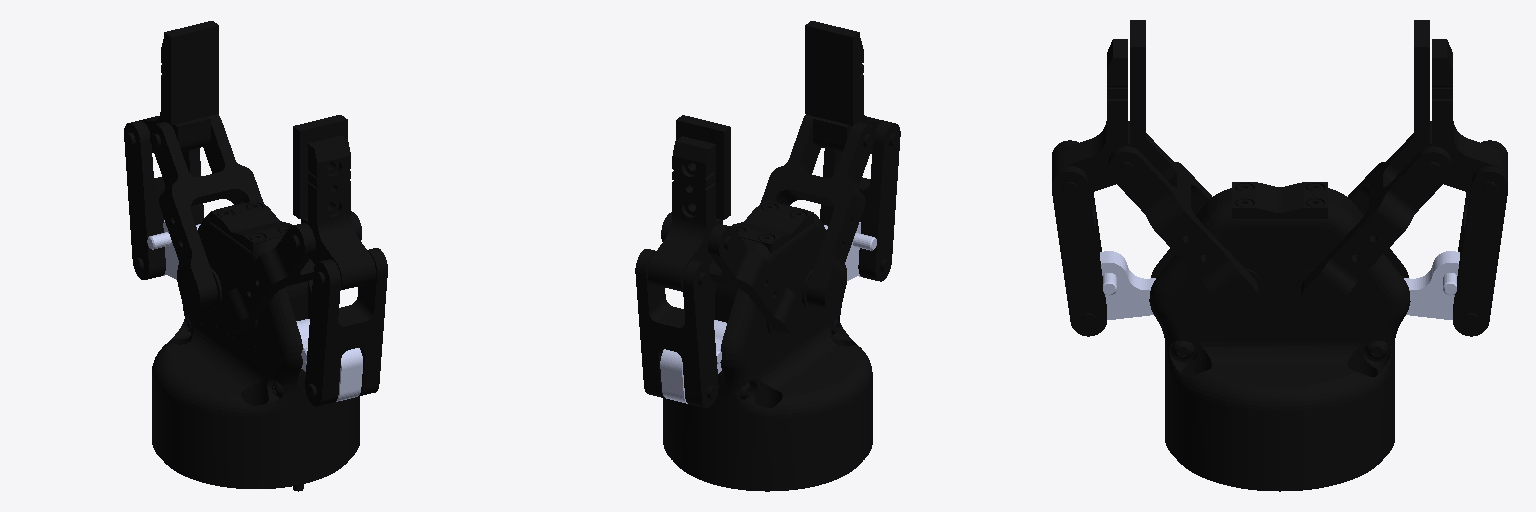
robot.urdf — robotiq_arg2f_85_model:
<?xml version="1.0" ?>
<!-- =================================================================================== -->
<!-- |    This document was autogenerated by xacro from robotiq_2f_85_macro.xacro      | -->
<!-- |    EDITING THIS FILE BY HAND IS NOT RECOMMENDED                                 | -->
<!-- =================================================================================== -->
<robot name="robotiq_arg2f_85_model">
    <link name="world">
      <inertial>
      <origin rpy="0 0 0" xyz="0 0 0"/>
      <mass value="0"/>
      <inertia ixx="0" ixy="0" ixz="0" iyy="0" iyz="0" izz="0"/>
    </inertial>
   </link>
     <link name="forward_link">
      <inertial>
      <origin rpy="0 0 0" xyz="0 0 0"/>
      <mass value="0"/>
      <inertia ixx="0" ixy="0" ixz="0" iyy="0" iyz="0" izz="0"/>
    </inertial>
   </link>
  <link name="robotiq_arg2f_85_base_link">
    <inertial>
      <origin rpy="0 0 0" xyz="8.625E-08 -4.6583E-06 0.03145"/>
      <mass value="0.22652"/>
      <inertia ixx="0.00020005" ixy="-4.2442E-10" ixz="-2.9069E-10" iyy="0.00017832" iyz="-3.4402E-08" izz="0.00013478"/>
    </inertial>
    <visual>
      <origin rpy="0 0 0" xyz="0 0 0"/>
      <geometry>
        <mesh filename="visual/robotiq_arg2f_85_base_link.obj"/>
      </geometry>
      <material name="">
        <color rgba="0.1 0.1 0.1 1"/>
      </material>
    </visual>
    <collision>
      <origin rpy="0 0 0" xyz="0 0 0"/>
      <geometry>
        <mesh filename="collision/robotiq_arg2f_85_base_link_vhacd.obj"/>
      </geometry>
    </collision>
  </link>
  <gazebo reference="robotiq_arg2f_85_base_link">
    <material>Gazebo/Black</material>
  </gazebo>
  <link name="left_outer_knuckle">
    <inertial>
      <origin rpy="0 0 0" xyz="-0.000200000000003065 0.0199435877845359 0.0292245259211331"/>
      <mass value="0.00853198276973456"/>
      <inertia ixx="2.89328108496468E-06" ixy="-1.57935047237397E-19" ixz="-1.93980378593255E-19" iyy="1.86719750325683E-06" iyz="-1.21858577871576E-06" izz="1.21905238907251E-06"/>
    </inertial>
    <visual>
      <origin rpy="0 0 0" xyz="0 0 0"/>
      <geometry>
        <mesh filename="visual/robotiq_arg2f_85_outer_knuckle.obj" scale="1 1 1"/>
      </geometry>
      <material name="">
        <color rgba="0.792156862745098 0.819607843137255 0.933333333333333 1"/>
      </material>
    </visual>
    <collision>
      <origin rpy="0 0 0" xyz="0 0 0"/>
      <geometry>
        <mesh filename="collision/robotiq_arg2f_85_outer_knuckle_vhacd.obj" scale="1 1 1"/>
      </geometry>
    </collision>
  </link>
  <link name="left_outer_finger">
    <inertial>
      <origin rpy="0 0 0" xyz="0.00030115855001899 0.0373907951953854 -0.0208027427000385"/>
      <mass value="0.022614240507152"/>
      <inertia ixx="1.52518312458174E-05" ixy="9.76583423954399E-10" ixz="-5.43838577022588E-10" iyy="6.17694243867776E-06" iyz="6.78636130740228E-06" izz="1.16494917907219E-05"/>
    </inertial>
    <visual>
      <origin rpy="0 0 0" xyz="0 0 0"/>
      <geometry>
        <mesh filename="visual/robotiq_arg2f_85_outer_finger.obj" scale="1 1 1"/>
      </geometry>
      <material name="">
        <color rgba="0.1 0.1 0.1 1"/>
      </material>
    </visual>
    <collision>
      <origin rpy="0 0 0" xyz="0 0 0"/>
      <geometry>
        <mesh filename="collision/robotiq_arg2f_85_outer_finger_vhacd.obj" scale="1 1 1"/>
      </geometry>
    </collision>
  </link>
  <link name="left_inner_finger">
    <inertial>
      <origin rpy="0 0 0" xyz="0.000299999999999317 0.0160078233491243 -0.0136945669206257"/>
      <mass value="0.0104003125914103"/>
      <inertia ixx="2.71909453810972E-06" ixy="1.35402465472579E-21" ixz="-7.1817349065269E-22" iyy="7.69100314106116E-07" iyz="6.74715432769696E-07" izz="2.30315190420171E-06"/>
    </inertial>
    <visual>
      <origin rpy="0 0 0" xyz="0 0 0"/>
      <geometry>
        <mesh filename="visual/robotiq_arg2f_85_inner_finger.obj" scale="1 1 1"/>
      </geometry>
      <material name="">
        <color rgba="0.1 0.1 0.1 1"/>
      </material>
    </visual>
    <collision>
      <origin rpy="0 0 0" xyz="0 0 0"/>
      <geometry>
        <mesh filename="collision/robotiq_arg2f_85_inner_finger_vhacd.obj" scale="1 1 1"/>
      </geometry>
    </collision>
  </link>
  <link name="left_inner_knuckle">
    <inertial>
      <origin rpy="0 0 0" xyz="0.000123011831763771 0.0507850843201817 0.00103968640075166"/>
      <mass value="0.0271177346495152"/>
      <inertia ixx="2.61910379223783E-05" ixy="-2.43616858946494E-07" ixz="-6.37789906117123E-09" iyy="2.8270243746167E-06" iyz="-5.37200748039765E-07" izz="2.83695868220296E-05"/>
    </inertial>
    <visual>
      <origin rpy="0 0 0" xyz="0 0 0"/>
      <geometry>
        <mesh filename="visual/robotiq_arg2f_85_inner_knuckle.obj" scale="1 1 1"/>
      </geometry>
      <material name="">
        <color rgba="0.1 0.1 0.1 1"/>
      </material>
    </visual>
    <collision>
      <origin rpy="0 0 0" xyz="0 0 0"/>
      <geometry>
        <mesh filename="collision/robotiq_arg2f_85_inner_knuckle_vhacd.obj" scale="1 1 1"/>
      </geometry>
    </collision>
  </link>
  <link name="right_outer_knuckle">
    <inertial>
      <origin rpy="0 0 0" xyz="-0.000200000000003065 0.0199435877845359 0.0292245259211331"/>
      <mass value="0.00853198276973456"/>
      <inertia ixx="2.89328108496468E-06" ixy="-1.57935047237397E-19" ixz="-1.93980378593255E-19" iyy="1.86719750325683E-06" iyz="-1.21858577871576E-06" izz="1.21905238907251E-06"/>
    </inertial>
    <visual>
      <origin rpy="0 0 0" xyz="0 0 0"/>
      <geometry>
        <mesh filename="visual/robotiq_arg2f_85_outer_knuckle.obj" scale="1 1 1"/>
      </geometry>
      <material name="">
        <color rgba="0.792156862745098 0.819607843137255 0.933333333333333 1"/>
      </material>
    </visual>
    <collision>
      <origin rpy="0 0 0" xyz="0 0 0"/>
      <geometry>
        <mesh filename="collision/robotiq_arg2f_85_outer_knuckle_vhacd.obj" scale="1 1 1"/>
      </geometry>
    </collision>
  </link>
  <link name="right_outer_finger">
    <inertial>
      <origin rpy="0 0 0" xyz="0.00030115855001899 0.0373907951953854 -0.0208027427000385"/>
      <mass value="0.022614240507152"/>
      <inertia ixx="1.52518312458174E-05" ixy="9.76583423954399E-10" ixz="-5.43838577022588E-10" iyy="6.17694243867776E-06" iyz="6.78636130740228E-06" izz="1.16494917907219E-05"/>
    </inertial>
    <visual>
      <origin rpy="0 0 0" xyz="0 0 0"/>
      <geometry>
        <mesh filename="visual/robotiq_arg2f_85_outer_finger.obj" scale="1 1 1"/>
      </geometry>
      <material name="">
        <color rgba="0.1 0.1 0.1 1"/>
      </material>
    </visual>
    <collision>
      <origin rpy="0 0 0" xyz="0 0 0"/>
      <geometry>
        <mesh filename="collision/robotiq_arg2f_85_outer_finger_vhacd.obj" scale="1 1 1"/>
      </geometry>
    </collision>
  </link>
  <link name="right_inner_finger">
    <inertial>
      <origin rpy="0 0 0" xyz="0.000299999999999317 0.0160078233491243 -0.0136945669206257"/>
      <mass value="0.0104003125914103"/>
      <inertia ixx="2.71909453810972E-06" ixy="1.35402465472579E-21" ixz="-7.1817349065269E-22" iyy="7.69100314106116E-07" iyz="6.74715432769696E-07" izz="2.30315190420171E-06"/>
    </inertial>
    <visual>
      <origin rpy="0 0 0" xyz="0 0 0"/>
      <geometry>
        <mesh filename="visual/robotiq_arg2f_85_inner_finger.obj" scale="1 1 1"/>
      </geometry>
      <material name="">
        <color rgba="0.1 0.1 0.1 1"/>
      </material>
    </visual>
    <collision>
      <origin rpy="0 0 0" xyz="0 0 0"/>
      <geometry>
        <mesh filename="collision/robotiq_arg2f_85_inner_finger_vhacd.obj" scale="1 1 1"/>
      </geometry>
    </collision>
  </link>
  <link name="right_inner_knuckle">
    <inertial>
      <origin rpy="0 0 0" xyz="0.000123011831763771 0.0507850843201817 0.00103968640075166"/>
      <mass value="0.0271177346495152"/>
      <inertia ixx="2.61910379223783E-05" ixy="-2.43616858946494E-07" ixz="-6.37789906117123E-09" iyy="2.8270243746167E-06" iyz="-5.37200748039765E-07" izz="2.83695868220296E-05"/>
    </inertial>
    <visual>
      <origin rpy="0 0 0" xyz="0 0 0"/>
      <geometry>
        <mesh filename="visual/robotiq_arg2f_85_inner_knuckle.obj" scale="1 1 1"/>
      </geometry>
      <material name="">
        <color rgba="0.1 0.1 0.1 1"/>
      </material>
    </visual>
    <collision>
      <origin rpy="0 0 0" xyz="0 0 0"/>
      <geometry>
        <mesh filename="collision/robotiq_arg2f_85_inner_knuckle_vhacd.obj" scale="1 1 1"/>
      </geometry>
    </collision>
  </link>
  <joint name="finger_joint" type="revolute">
    <origin rpy="0 0 3.141592653589793" xyz="0 -0.0306011 0.054904"/>
    <parent link="robotiq_arg2f_85_base_link"/>
    <child link="left_outer_knuckle"/>
    <axis xyz="1 0 0"/>
    <limit effort="1000" lower="0" upper="0.8" velocity="2.0"/>
  </joint>
  <joint name="left_outer_finger_joint" type="fixed">
    <origin rpy="0 0 0" xyz="0 0.0315 -0.0041"/>
    <parent link="left_outer_knuckle"/>
    <child link="left_outer_finger"/>
    <axis xyz="1 0 0"/>
  </joint>
  <joint name="left_inner_knuckle_joint" type="revolute">
    <!-- <origin xyz="0 ${reflect * -0.0127} 0.06142" rpy="${pi / 2 + .725} 0 ${(reflect - 1) * pi / 2}" /> -->
    <origin rpy="0 0 3.141592653589793" xyz="0 -0.0127 0.06142"/>
    <parent link="robotiq_arg2f_85_base_link"/>
    <child link="left_inner_knuckle"/>
    <axis xyz="1 0 0"/>
    <limit effort="1000" lower="0" upper="0.8757" velocity="2.0"/>
    <mimic joint="finger_joint" multiplier="1" offset="0"/>
  </joint>
  <joint name="left_inner_finger_joint" type="revolute">
    <origin rpy="0 0 0" xyz="0 0.0061 0.0471"/>
    <parent link="left_outer_finger"/>
    <child link="left_inner_finger"/>
    <axis xyz="1 0 0"/>
    <limit effort="1000" lower="-0.8757" upper="0.8757" velocity="2.0"/>
    <mimic joint="finger_joint" multiplier="-1" offset="0"/>
  </joint>
  <joint name="right_outer_knuckle_joint" type="revolute">
    <origin rpy="0 0 0" xyz="0 0.0306011 0.054904"/>
    <parent link="robotiq_arg2f_85_base_link"/>
    <child link="right_outer_knuckle"/>
    <axis xyz="1 0 0"/>
    <limit effort="1000" lower="0" upper="0.81" velocity="2.0"/>
    <mimic joint="finger_joint" multiplier="1" offset="0"/>
  </joint>
  <joint name="right_outer_finger_joint" type="fixed">
    <origin rpy="0 0 0" xyz="0 0.0315 -0.0041"/>
    <parent link="right_outer_knuckle"/>
    <child link="right_outer_finger"/>
    <axis xyz="1 0 0"/>
  </joint>
  <joint name="right_inner_knuckle_joint" type="revolute">
    <!-- <origin xyz="0 ${reflect * -0.0127} 0.06142" rpy="${pi / 2 + .725} 0 ${(reflect - 1) * pi / 2}" /> -->
    <origin rpy="0 0 0.0" xyz="0 0.0127 0.06142"/>
    <parent link="robotiq_arg2f_85_base_link"/>
    <child link="right_inner_knuckle"/>
    <axis xyz="1 0 0"/>
    <limit effort="1000" lower="0" upper="0.8757" velocity="2.0"/>
    <mimic joint="finger_joint" multiplier="1" offset="0"/>
  </joint>
  <joint name="right_inner_finger_joint" type="revolute">
    <origin rpy="0 0 0" xyz="0 0.0061 0.0471"/>
    <parent link="right_outer_finger"/>
    <child link="right_inner_finger"/>
    <axis xyz="1 0 0"/>
    <limit effort="1000" lower="-0.8757" upper="0.8757" velocity="2.0"/>
    <mimic joint="finger_joint" multiplier="-1" offset="0"/>
  </joint>
  <joint name="rotation_joint" type="revolute">
    <origin rpy="0 0 0" xyz="0 0 0"/>
    <parent link="world"/>
    <child link="forward_link"/>
    <axis xyz="0 0 1"/>
    <limit effort="1000" lower="-3.14" upper="3.14"/>
  </joint>
  <joint name="forward_joint" type="prismatic">
    <origin rpy="0 0 0" xyz="0 0 0"/>
    <parent link="forward_link"/>
    <child link="robotiq_arg2f_85_base_link"/>
    <axis xyz="0 0 1"/>
    <limit effort="1000" lower="-10" upper="10"/>
  </joint>

    <link name="left_inner_finger_pad">
      <inertial>
      <origin rpy="0 0 0" xyz="0 0 0"/>
      <mass value="0"/>
      <inertia ixx="0" ixy="0" ixz="0" iyy="0" iyz="0" izz="0"/>
    </inertial>
    <visual>
      <origin rpy="0 0 0" xyz="0 0 0"/>
      <geometry>
            <mesh filename="visual/robotiq_arg2f_85_pad.obj" scale="1 1 1"/>
      </geometry>
      <material name="">
        <color rgba="0.1 0.1 0.1 1"/>
      </material>
    </visual>
    <collision>
      <origin rpy="0 0 0" xyz="0 0 0"/>
      <geometry>
        <mesh filename="collision/robotiq_arg2f_85_pad_vhacd.obj" scale="1 1 1"/>
      </geometry>
      <material name="">
        <color rgba="0.1 0.1 0.1 1"/>
      </material>
    </collision>
  </link>

  <link name="right_inner_finger_pad">
      <inertial>
      <origin rpy="0 0 0" xyz="0 0 0"/>
      <mass value="0"/>
      <inertia ixx="0" ixy="0" ixz="0" iyy="0" iyz="0" izz="0"/>
    </inertial>
    <visual>
      <origin rpy="0 0 0" xyz="0 0 0"/>
      <geometry>
            <mesh filename="visual/robotiq_arg2f_85_pad.obj" scale="1 1 1"/>
      </geometry>
      <material name="">
        <color rgba="0.1 0.1 0.1 1"/>
      </material>
    </visual>
    <collision>
      <origin rpy="0 0 0" xyz="0 0 0"/>
      <geometry>
        <mesh filename="collision/robotiq_arg2f_85_pad_vhacd.obj" scale="1 1 1"/>
      </geometry>
      <material name="">
        <color rgba="0.1 0.1 0.1 1"/>
      </material>
    </collision>
  </link>
    <joint name="left_inner_finger_pad_joint" type="fixed">
    <origin rpy="0 0 0" xyz="0 -0.0220203446692936 0.03242"/>
    <parent link="left_inner_finger"/>
    <child link="left_inner_finger_pad"/>
    <axis xyz="0 0 1"/>
  </joint>
  <joint name="right_inner_finger_pad_joint" type="fixed">
    <origin rpy="0 0 0" xyz="0 -0.0220203446692936 0.03242"/>
    <parent link="right_inner_finger"/>
    <child link="right_inner_finger_pad"/>
    <axis xyz="0 0 1"/>
  </joint>
</robot>

--- Facts derived from the render (not from the file) ---
3 views of the same robot in one strip: view 1: azimuth 30°, elevation 25°; view 2: azimuth 150°, elevation 25°; view 3: azimuth 270°, elevation 25° (orthographic).
Robot: robotiq_arg2f_85_model — 13 links, 12 joints (7 revolute, 1 prismatic, 4 fixed); root link world; default pose: every joint at zero.
Links seen in each view (by area): view 1: robotiq_arg2f_85_base_link, right_inner_knuckle, left_outer_finger, left_inner_finger, right_inner_finger_pad, right_outer_finger, left_inner_knuckle, left_inner_finger_pad, left_outer_knuckle, right_inner_finger, right_outer_knuckle; view 2: robotiq_arg2f_85_base_link, left_inner_knuckle, right_outer_finger, right_inner_finger, left_inner_finger_pad, left_outer_finger, right_inner_knuckle, right_inner_finger_pad, left_inner_finger, right_outer_knuckle, left_outer_knuckle; view 3: robotiq_arg2f_85_base_link, left_inner_knuckle, right_inner_knuckle, left_outer_finger, right_outer_finger, left_inner_finger, right_inner_finger, right_outer_knuckle, left_outer_knuckle, left_inner_finger_pad, right_inner_finger_pad.
Boxes of the visible links, x1=… form: robotiq_arg2f_85_base_link: x1=152, y1=200, x2=359, y2=491; right_inner_knuckle: x1=150, y1=114, x2=263, y2=307; left_outer_finger: x1=305, y1=248, x2=387, y2=406; left_inner_finger: x1=301, y1=136, x2=375, y2=290; right_inner_finger_pad: x1=164, y1=21, x2=218, y2=124; right_outer_finger: x1=124, y1=120, x2=203, y2=279; left_inner_knuckle: x1=218, y1=211, x2=361, y2=333; left_inner_finger_pad: x1=293, y1=115, x2=347, y2=218; left_outer_knuckle: x1=296, y1=319, x2=362, y2=401; right_inner_finger: x1=141, y1=39, x2=210, y2=152; right_outer_knuckle: x1=147, y1=220, x2=200, y2=279; robotiq_arg2f_85_base_link: x1=663, y1=201, x2=872, y2=491; left_inner_knuckle: x1=760, y1=115, x2=874, y2=309; right_outer_finger: x1=635, y1=249, x2=718, y2=408; right_inner_finger: x1=647, y1=136, x2=722, y2=291; left_inner_finger_pad: x1=805, y1=21, x2=859, y2=125; left_outer_finger: x1=820, y1=121, x2=900, y2=281; right_inner_knuckle: x1=661, y1=212, x2=805, y2=335; right_inner_finger_pad: x1=676, y1=115, x2=730, y2=219; left_inner_finger: x1=813, y1=38, x2=883, y2=153; right_outer_knuckle: x1=660, y1=320, x2=726, y2=403; left_outer_knuckle: x1=824, y1=222, x2=876, y2=280; robotiq_arg2f_85_base_link: x1=1149, y1=182, x2=1410, y2=491; left_inner_knuckle: x1=1108, y1=121, x2=1258, y2=316; right_inner_knuckle: x1=1301, y1=121, x2=1451, y2=316; left_outer_finger: x1=1052, y1=140, x2=1106, y2=336; right_outer_finger: x1=1453, y1=140, x2=1507, y2=336; left_inner_finger: x1=1052, y1=39, x2=1143, y2=192; right_inner_finger: x1=1416, y1=39, x2=1507, y2=192; right_outer_knuckle: x1=1404, y1=251, x2=1459, y2=319; left_outer_knuckle: x1=1100, y1=251, x2=1155, y2=319; left_inner_finger_pad: x1=1130, y1=20, x2=1145, y2=143; right_inner_finger_pad: x1=1414, y1=20, x2=1429, y2=143.
Bounding box of the posed robot: 0.075 × 0.1484 × 0.1518 m (x, y, z).
11 mesh visuals loaded from 6 distinct referenced files (6 OBJ).
